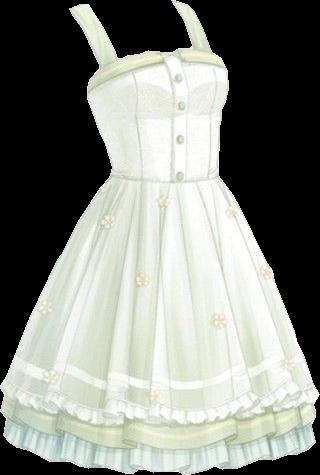Bodice: (69, 0, 228, 183)
Hemline: (0, 382, 319, 428), (0, 406, 315, 452), (0, 432, 319, 474)
Neckline: (85, 1, 193, 62)
Skirt: (0, 177, 319, 474)
Waistline: (110, 173, 219, 187)
